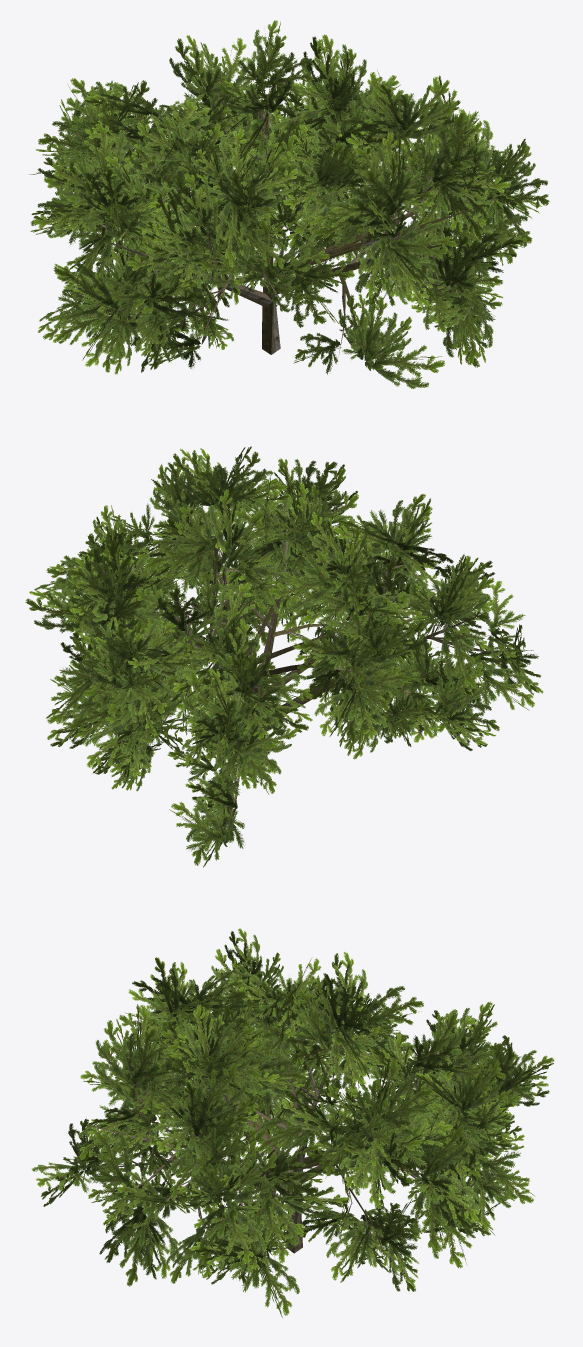
Rendered from tree_03_bush.glb.
The picture shows the model from 3 angles, top to bottom: view 1: azimuth 30°, elevation 25°; view 2: azimuth 150°, elevation 25°; view 3: azimuth 270°, elevation 25°; orthographic projection. The views are drawn at different scales.
Visible parts, largest first — view 1: tree_03; view 2: tree_03; view 3: tree_03.
Part boxes in pixels (x1,y1,x2,y2): tree_03: [29, 20, 549, 388]; tree_03: [25, 446, 543, 867]; tree_03: [31, 928, 554, 1317].
Size of the model in its own units: 5.34 by 3.4 by 5.08.
2 materials, 2 textured.
